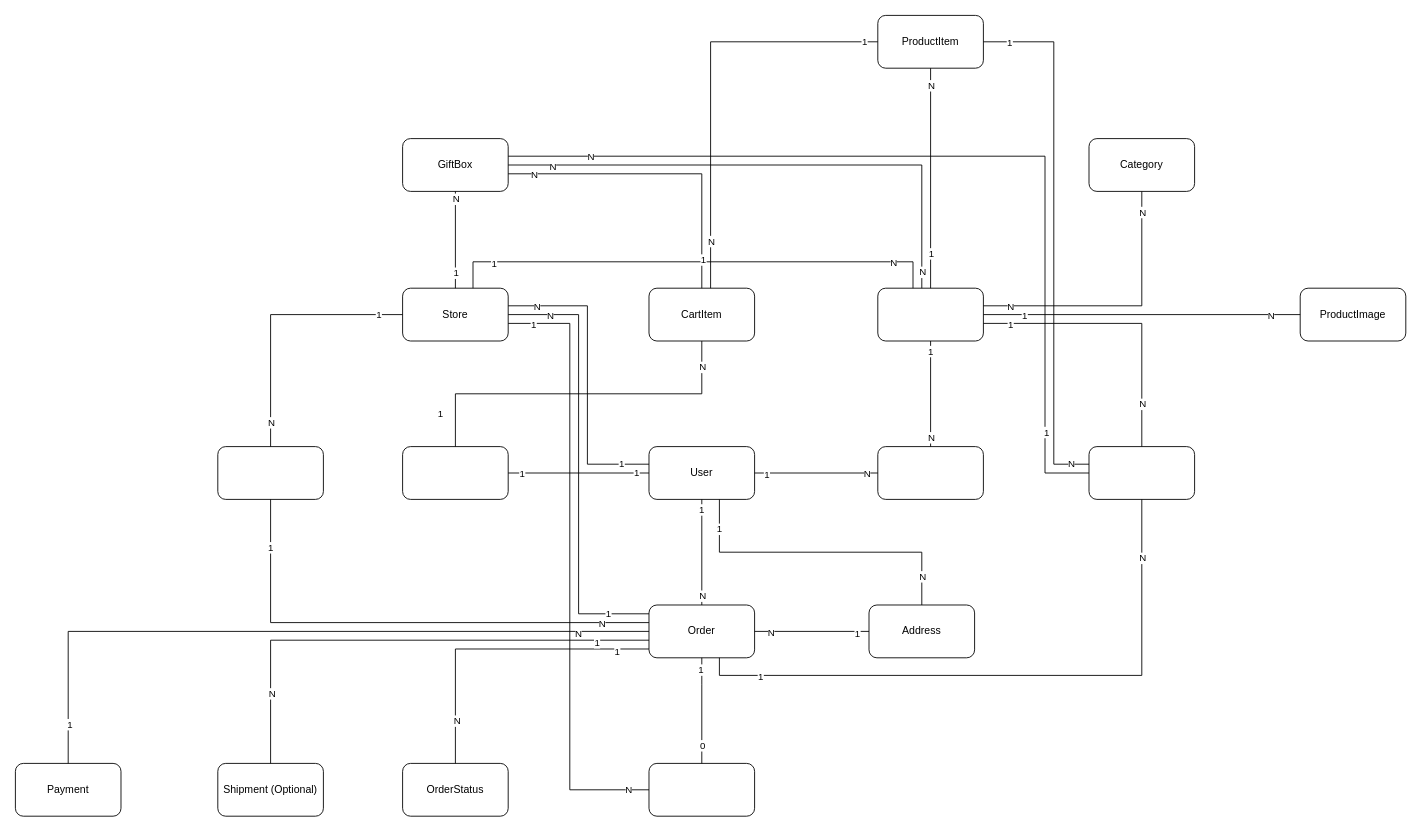
Image size: 1421x832. Some labels were removed from this diagram. Each missing label, with the centre of its shape:
Cart: point 455,472
OrderItem: point 1141,472
Payout: point 270,472
Product: point 930,314
Review (Optional): point 930,472
Voucher (Optional): point 701,789
